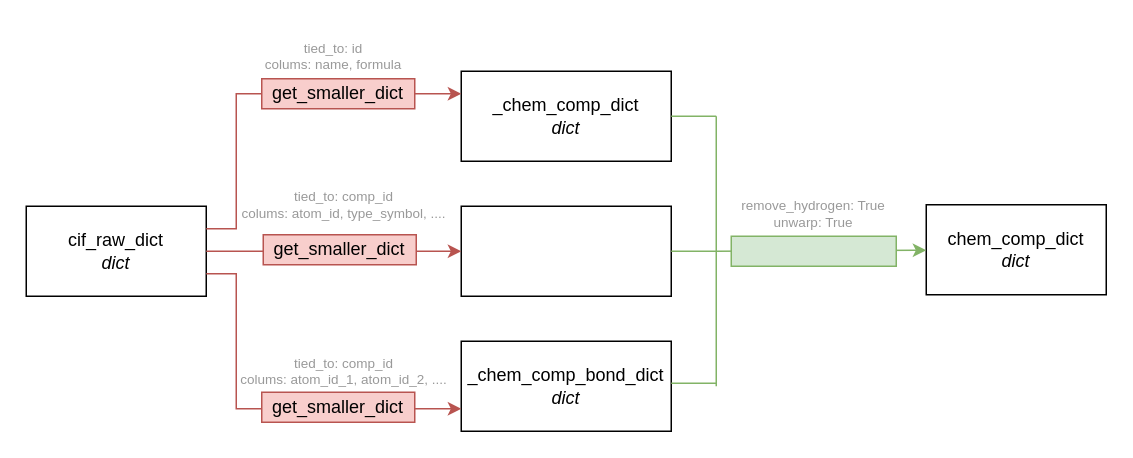
The diagram is 1133 pixels wide and 458 high, and some of its shapes have lost their labels. Here are the shapes that lost their labels. From the top down, the centre of each, then its label:
(565,250): _chem_comp_atom_dict dict
(813,250): parse_chem_comp
